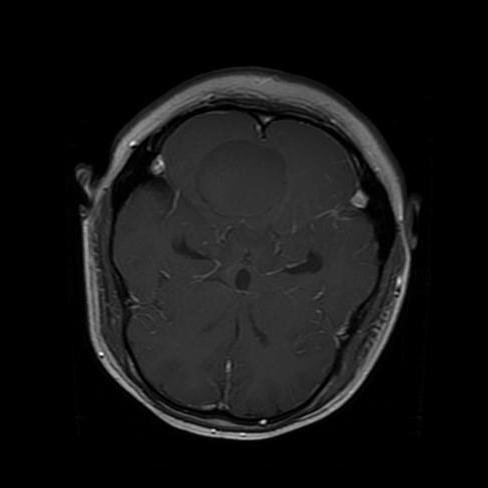Tumour-Glioma: (197, 140, 287, 225)
